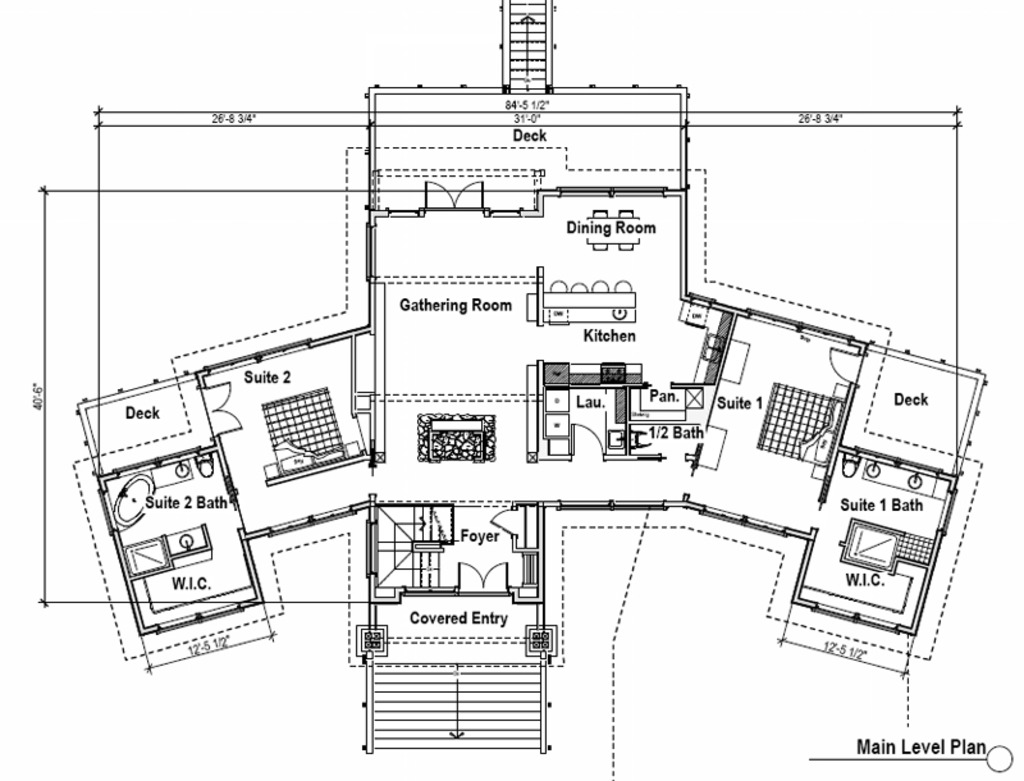bed: (247, 396, 370, 481), (753, 382, 844, 470)
dining_table: (555, 199, 665, 256)
door: (192, 378, 255, 444), (424, 174, 487, 218), (452, 562, 512, 599), (828, 340, 865, 390), (571, 421, 605, 461), (491, 506, 529, 540)
kitchen_bar: (530, 264, 645, 334)
large_sink: (187, 447, 222, 484), (840, 439, 859, 482)
small_sink: (863, 453, 947, 502), (150, 462, 193, 488)
stairs: (356, 652, 561, 756), (365, 508, 458, 594), (497, 4, 559, 98)
twin_sink: (699, 331, 727, 366)
window: (255, 503, 370, 540), (695, 498, 793, 539), (553, 494, 673, 515)
